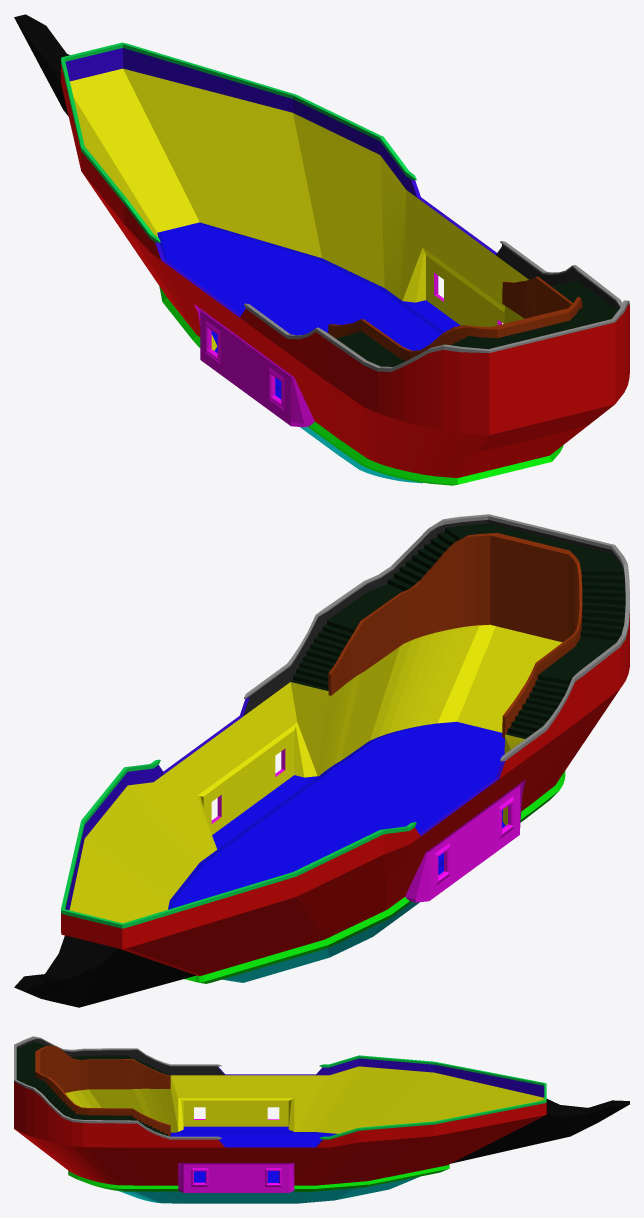
The model's file is MESH_coque.fbx.
3 views of the same model, one above another, from view 1: azimuth 30°, elevation 25°; view 2: azimuth 150°, elevation 25°; view 3: azimuth 270°, elevation 25° (orthographic). The views are drawn at different scales.
Visible parts, largest first — view 1: MESH_coque; view 2: MESH_coque; view 3: MESH_coque.
Part boxes in pixels (x1,y1,x2,y2): MESH_coque: [14, 14, 629, 485]; MESH_coque: [14, 514, 629, 1007]; MESH_coque: [14, 1036, 629, 1203].
Bounding box in the file's own units: 25.07 × 19.68 × 89.01.
